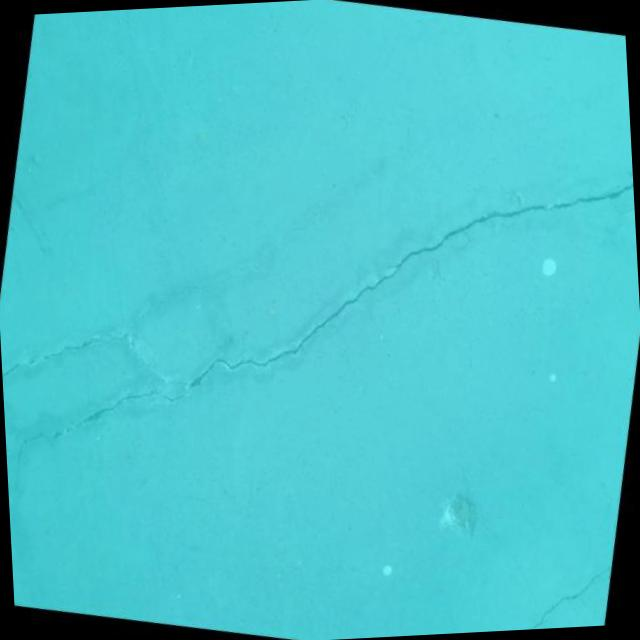crack: (139, 99, 640, 482), (0, 259, 190, 420), (2, 364, 164, 486), (474, 541, 616, 632)
